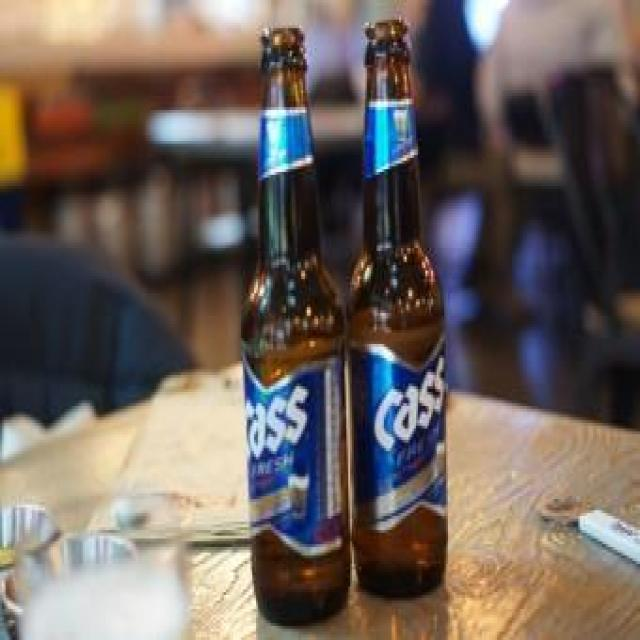beer-bottle: (234, 25, 354, 638), (339, 11, 456, 604)
